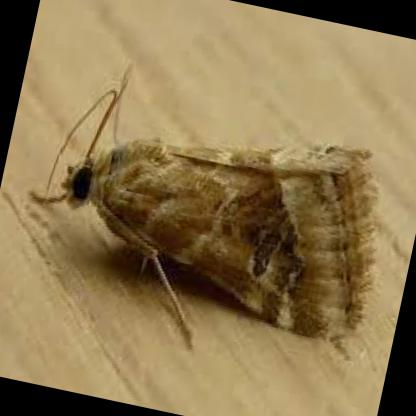Hellula undalis: (23, 45, 395, 354)
